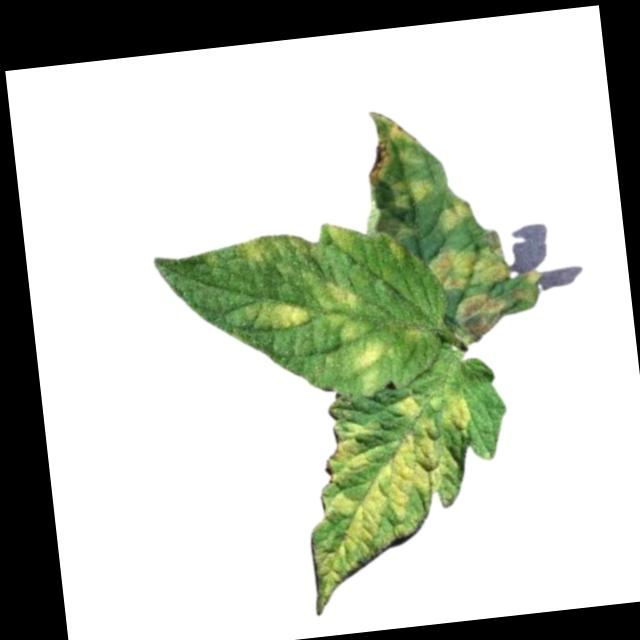Leaf_Mold: (294, 389, 487, 615), (424, 226, 512, 295), (360, 104, 427, 182), (454, 291, 512, 346), (350, 339, 394, 397), (317, 272, 369, 315), (322, 219, 361, 258), (392, 175, 435, 210), (327, 312, 373, 344), (267, 298, 309, 330), (439, 194, 475, 230), (243, 237, 268, 265)
